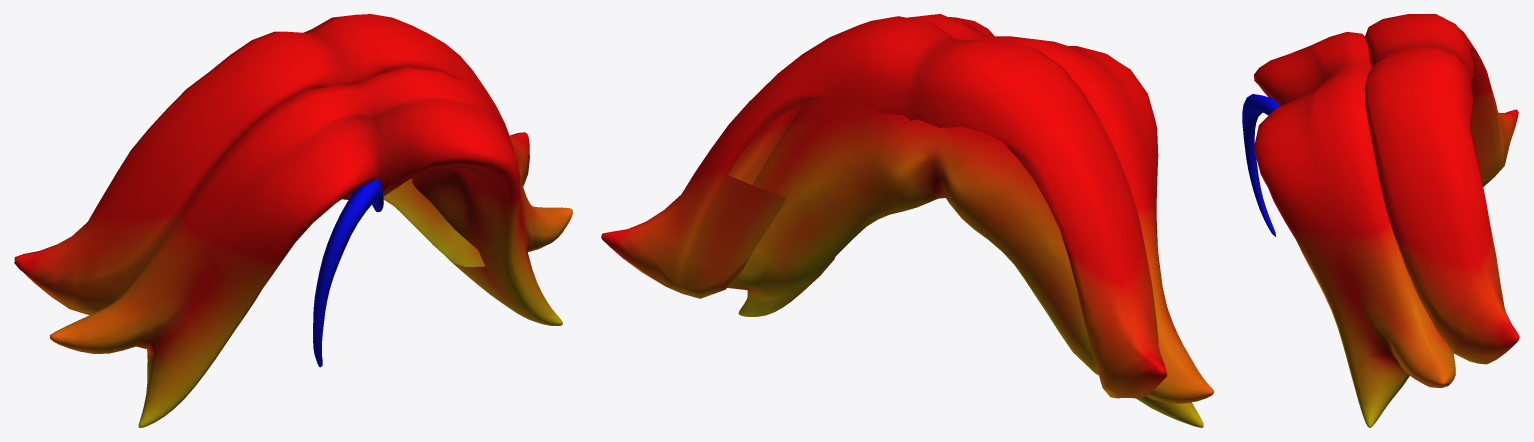
The model's file is HairFront_Parted.obj.
The picture shows the model from 3 angles, left to right: view 1: azimuth 30°, elevation 25°; view 2: azimuth 150°, elevation 25°; view 3: azimuth 270°, elevation 25°; orthographic projection. The views are drawn at different scales.
Parts seen in each view (by area): view 1: HairFront_Parted_0; view 2: HairFront_Parted_0; view 3: HairFront_Parted_0.
Part boxes in pixels (left/top/right/bottom): HairFront_Parted_0: left=14, top=14, right=572, bottom=427; HairFront_Parted_0: left=601, top=14, right=1213, bottom=427; HairFront_Parted_0: left=1242, top=14, right=1519, bottom=427.
Size of the model in its own units: 0.2724 by 0.1626 by 0.1376.
1 material, 1 textured.
